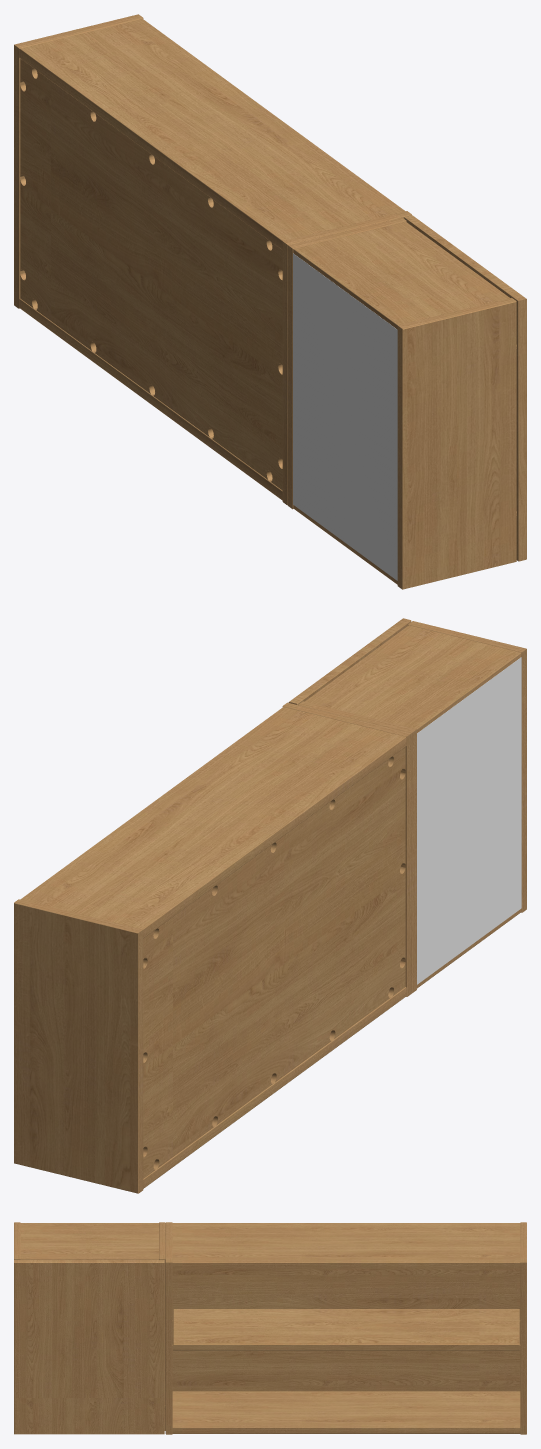
3 views of the same model, one above another, from view 1: azimuth 30°, elevation 25°; view 2: azimuth 150°, elevation 25°; view 3: azimuth 270°, elevation 25° (orthographic). The views are drawn at different scales.
Parts seen in each view (by area): view 1: Object_2, Object_4, Object_3; view 2: Object_2, Object_4, Object_3; view 3: Object_2, Object_3.
Boxes of the visible parts, x1,y1,x2,y2 form: Object_2: [14, 14, 517, 589]; Object_4: [293, 253, 397, 580]; Object_3: [15, 14, 526, 589]; Object_2: [14, 621, 526, 1193]; Object_4: [417, 657, 521, 984]; Object_3: [14, 618, 525, 1193]; Object_2: [14, 1222, 526, 1434]; Object_3: [14, 1222, 526, 1433].
Size of the model in its own units: 0.25 by 0.5 by 1.35.
Materials: 3 (1 with a texture image).
